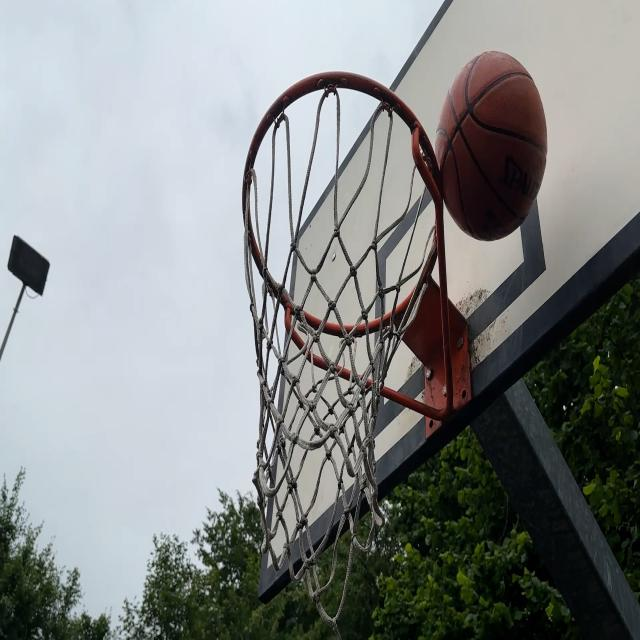rebound_hit: (424, 46, 546, 240)
